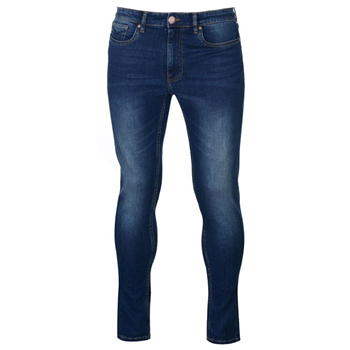jeans: (96, 3, 253, 349)
